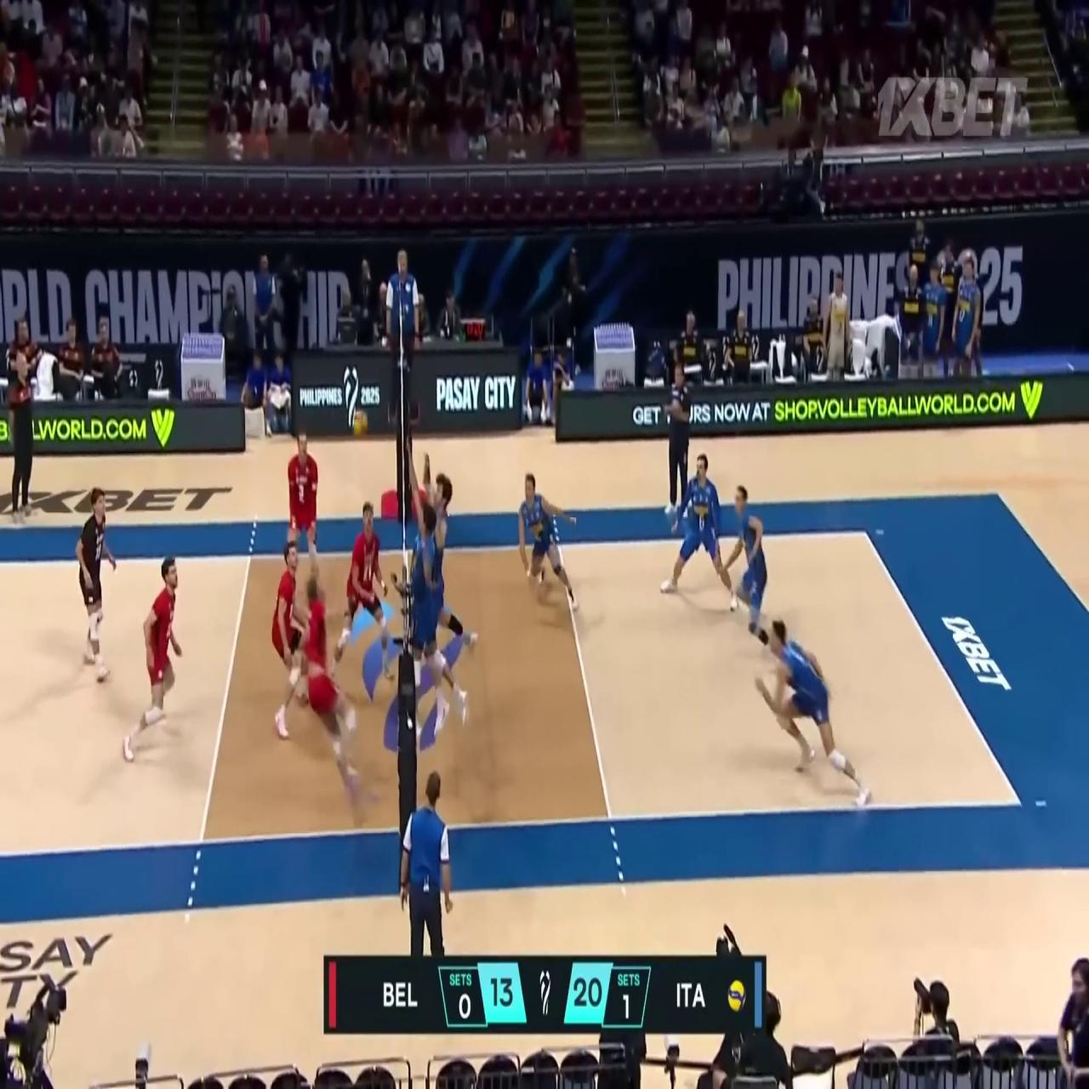ball: (353, 411, 368, 439)
